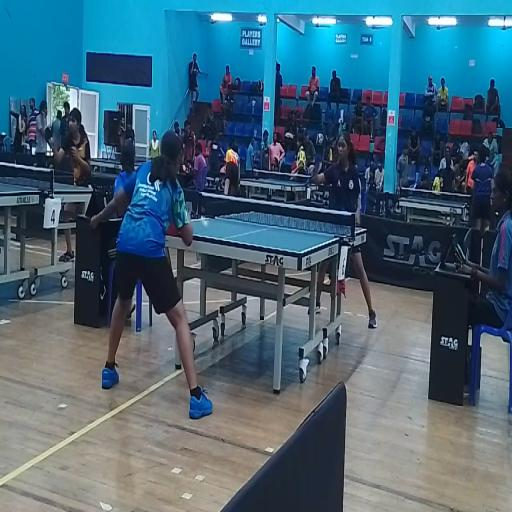ball: (200, 214, 209, 231)
